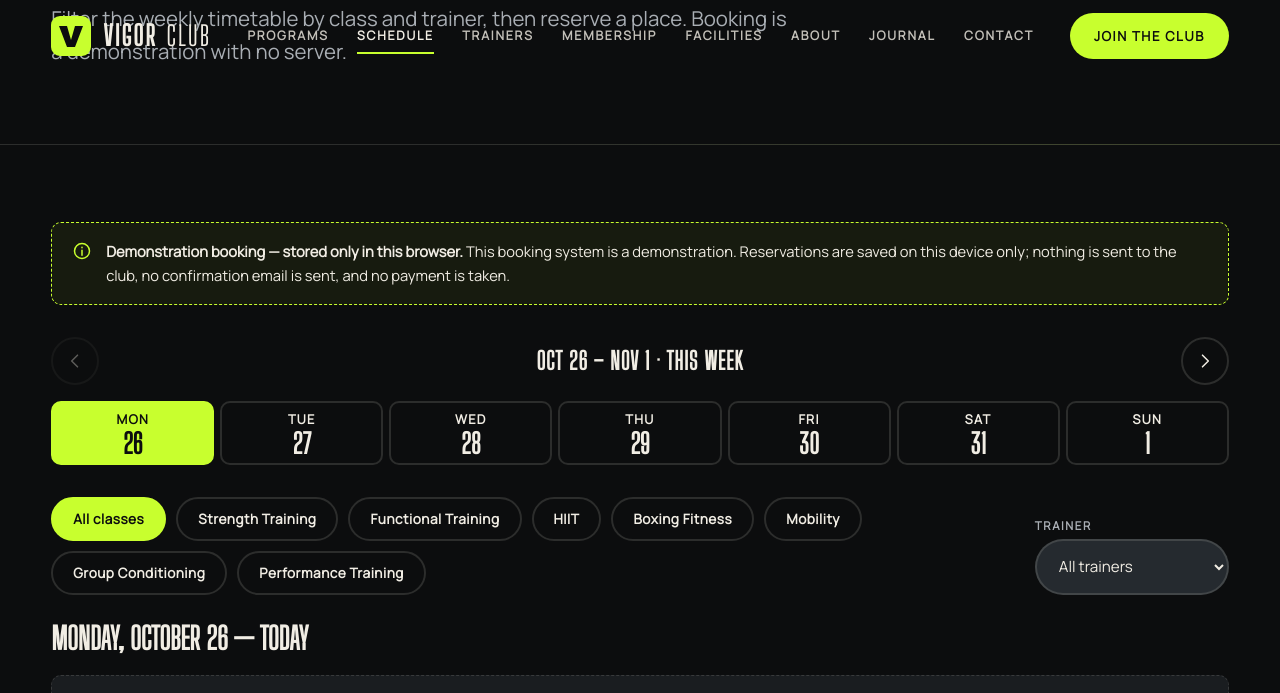
it: schedule & booking (demonstration) › disables past days and previous week at the start
This screenshot has width=1280, height=693.
(page scrolled)
Expected: the button named "previous week" is disabled, [51,337,99,385]
Click the button named "next week". click: (1205, 361)
box: [1181,337,1229,385]
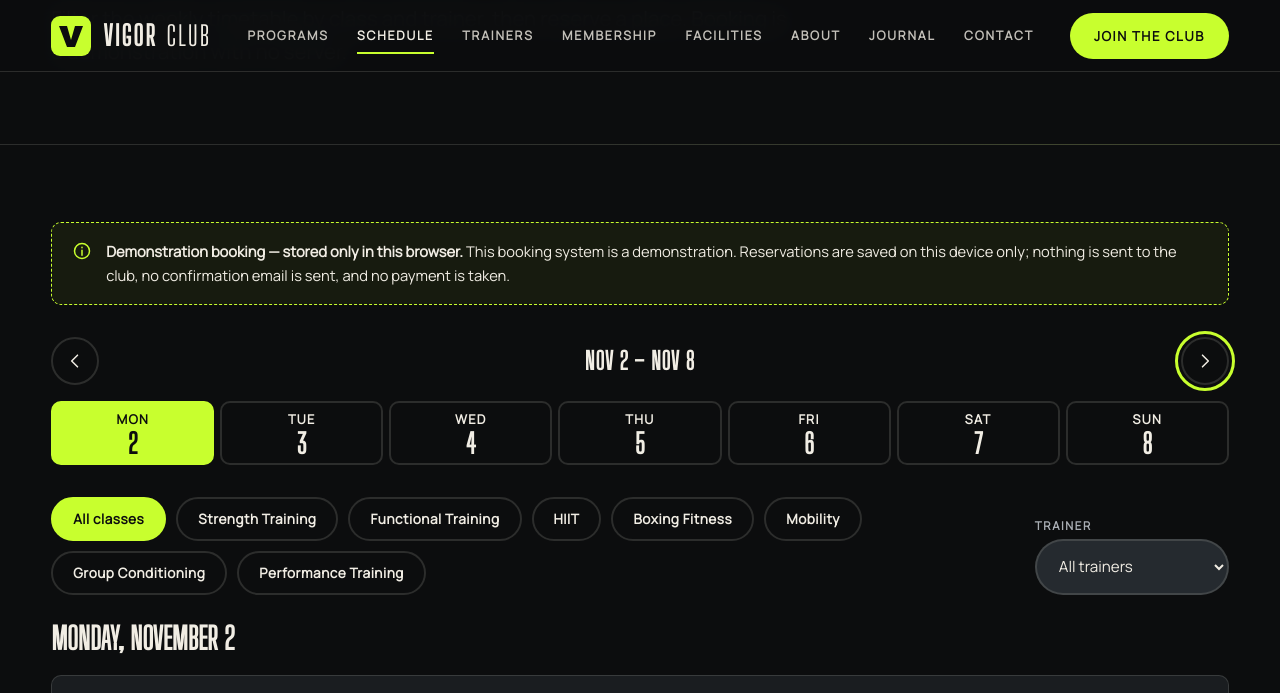
Expected: the button named "previous week" is enabled, [51,337,99,385]
